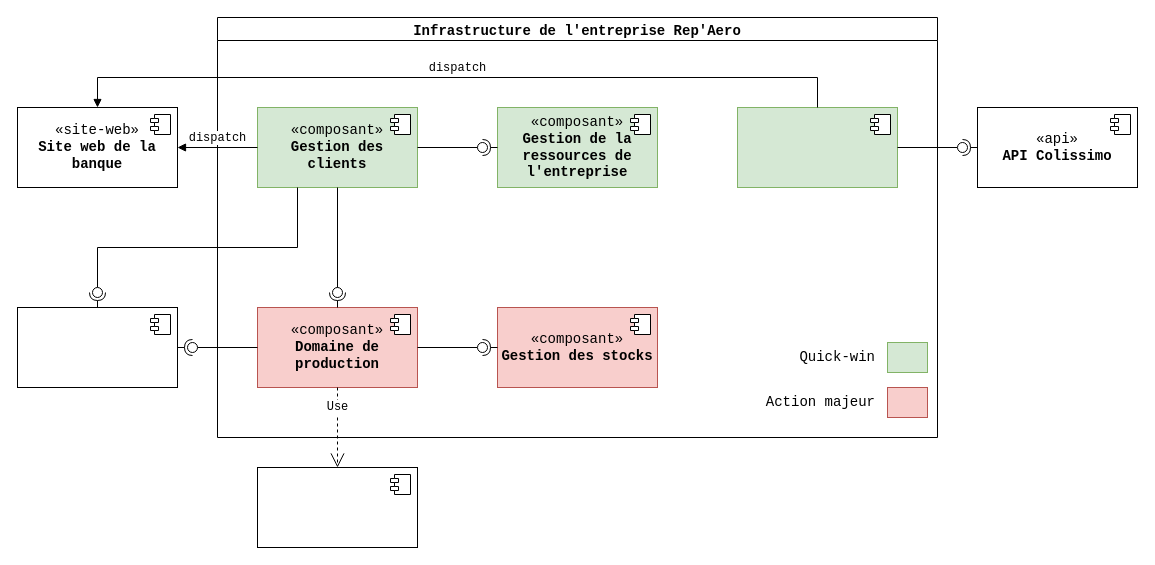
Some shapes in this 1155 by 565 pixel diagram are drawn without their labels. The shapes that lost their labels are listed below. From the top down, each one's box as (x1, y1, x2, y2) in pixels, then its label:
(736, 106, 898, 188): «composant» Gestion des fournisseurs
(16, 306, 178, 388): «cloud» SaaS provider
(256, 466, 418, 548): «serveur-ftp» FTP Constructeur
